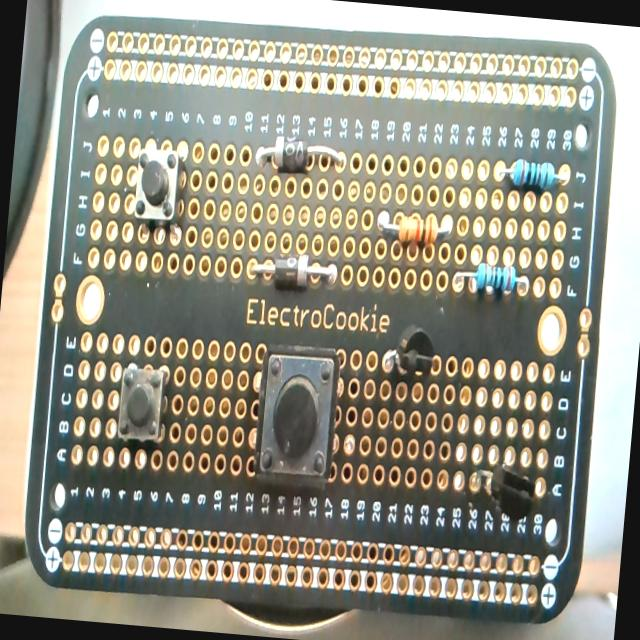diode: (255, 128, 349, 185), (245, 250, 338, 294)
resistor: (373, 205, 459, 255), (449, 260, 534, 310), (491, 152, 572, 192)
switch: (249, 337, 346, 500), (126, 138, 194, 253), (110, 352, 170, 454)
transistor: (374, 306, 440, 401), (464, 450, 544, 526)
